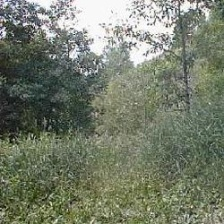neutral: (4, 3, 220, 221)
